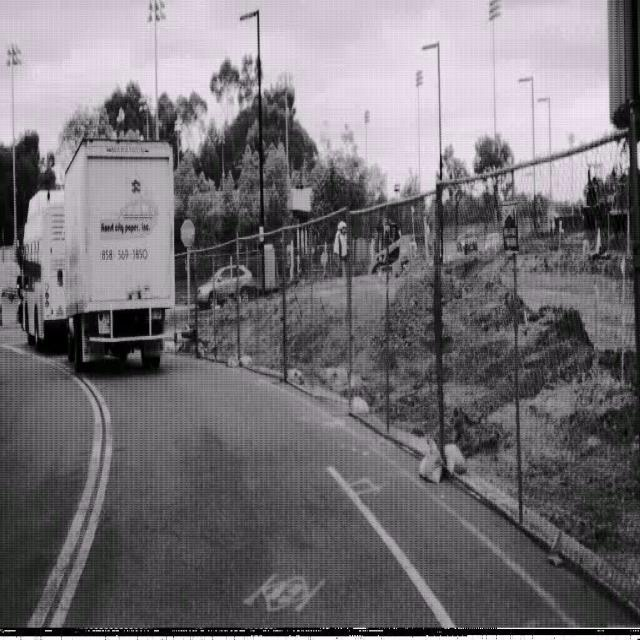stop_sign: (180, 218, 195, 246)
